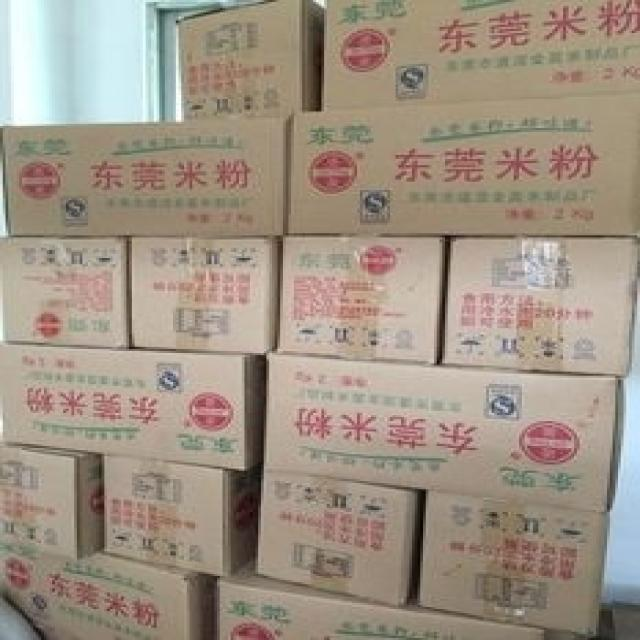box: (264, 351, 626, 512), (288, 91, 640, 237), (324, 0, 640, 107), (0, 341, 264, 469), (442, 237, 637, 378), (420, 489, 607, 636), (217, 559, 544, 640), (255, 471, 418, 605), (0, 541, 220, 640), (277, 235, 442, 363), (104, 454, 264, 576), (129, 237, 283, 355), (173, 0, 324, 120), (0, 235, 129, 347), (0, 444, 102, 559)
